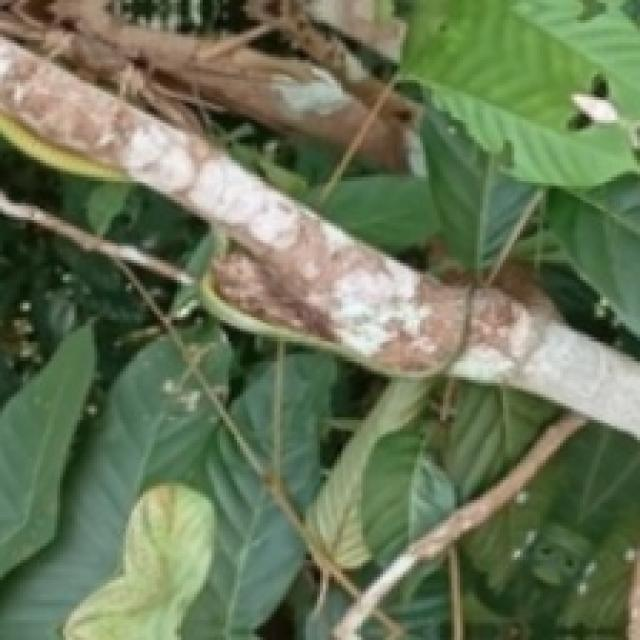paradise tree snake: (0, 0, 637, 637), (366, 423, 637, 637)
